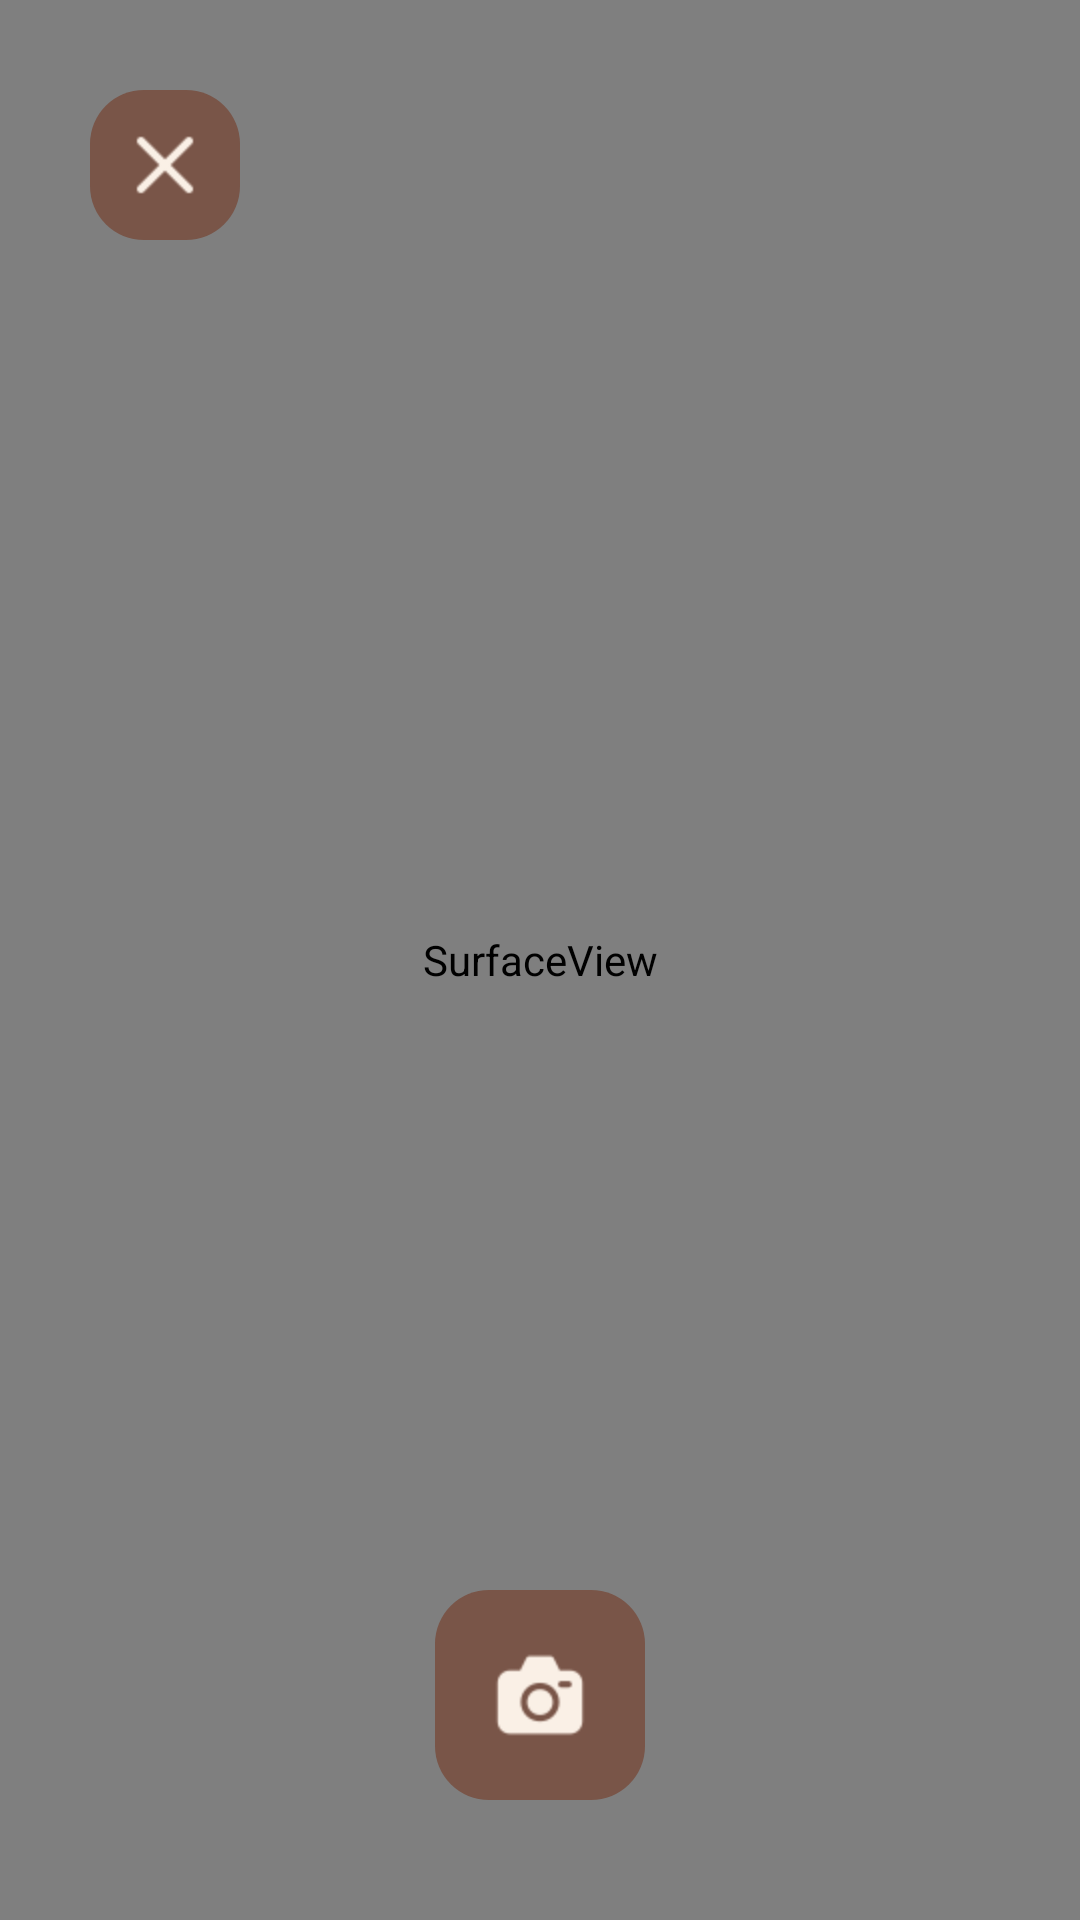

Named icons in this screenshot (1080px x 1920px) and their bounding boxes, Rect(x1, y1, x2, y2):
camera: Rect(435, 1590, 645, 1800)
close: Rect(90, 90, 240, 240)
